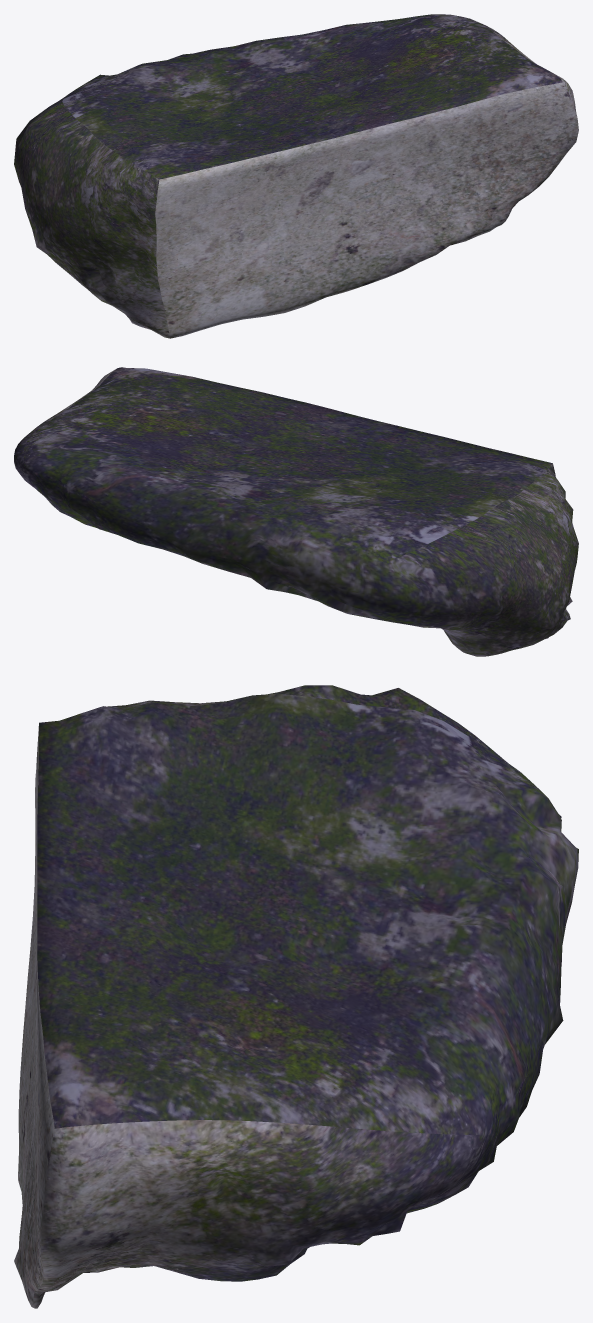
File: PreBossPlatform.fbx
3 views of the same model, one above another, from view 1: azimuth 30°, elevation 25°; view 2: azimuth 150°, elevation 25°; view 3: azimuth 270°, elevation 25° (orthographic). The views are drawn at different scales.
Parts seen in each view (by area): view 1: Платформа зона перед боссам; view 2: Платформа зона перед боссам; view 3: Платформа зона перед боссам.
Part boxes in pixels (x1,y1,x2,y2): Платформа зона перед боссам: (14, 14, 578, 338); Платформа зона перед боссам: (14, 367, 578, 656); Платформа зона перед боссам: (14, 685, 578, 1308).
Bounding box in the file's own units: 1060 × 355 × 533.
